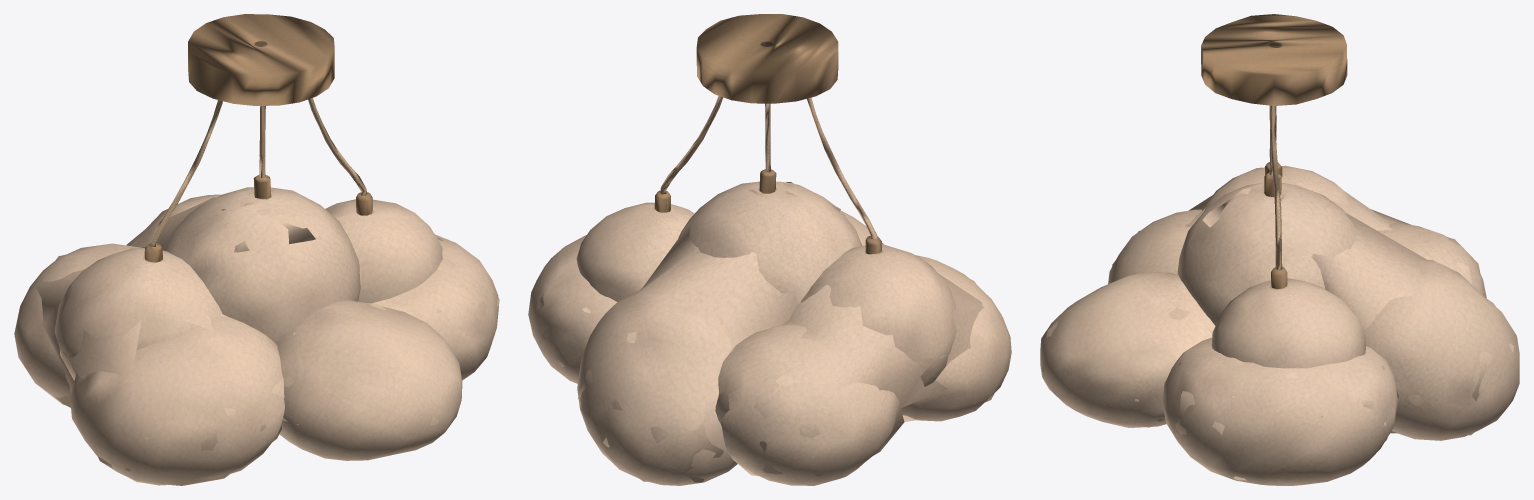
File: cloud-lamp.glb
3 renders of one model, left to right at view 1: azimuth 30°, elevation 25°; view 2: azimuth 150°, elevation 25°; view 3: azimuth 270°, elevation 25°, orthographic. The views are drawn at different scales.
Visible parts, largest first — view 1: Mesh_0; view 2: Mesh_0; view 3: Mesh_0.
Part boxes in pixels (bbox=[...]): Mesh_0: bbox=[14, 14, 499, 485]; Mesh_0: bbox=[528, 14, 1011, 485]; Mesh_0: bbox=[1040, 14, 1519, 485].
Bounding box in the file's own units: 0.5779 × 0.5 × 0.5779.
Materials: 1 (1 with a texture image).
